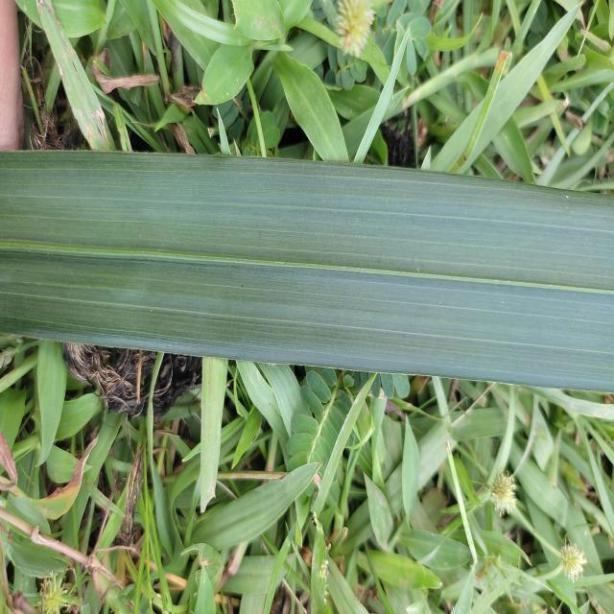Healthy: (0, 145, 614, 395)
